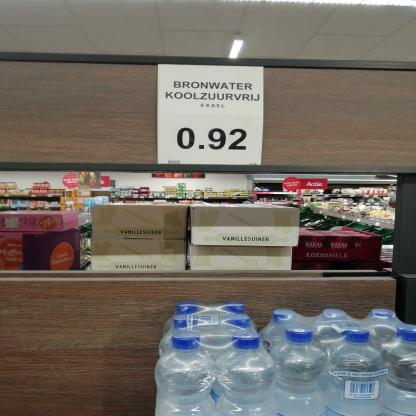prtg: (158, 64, 266, 168)
